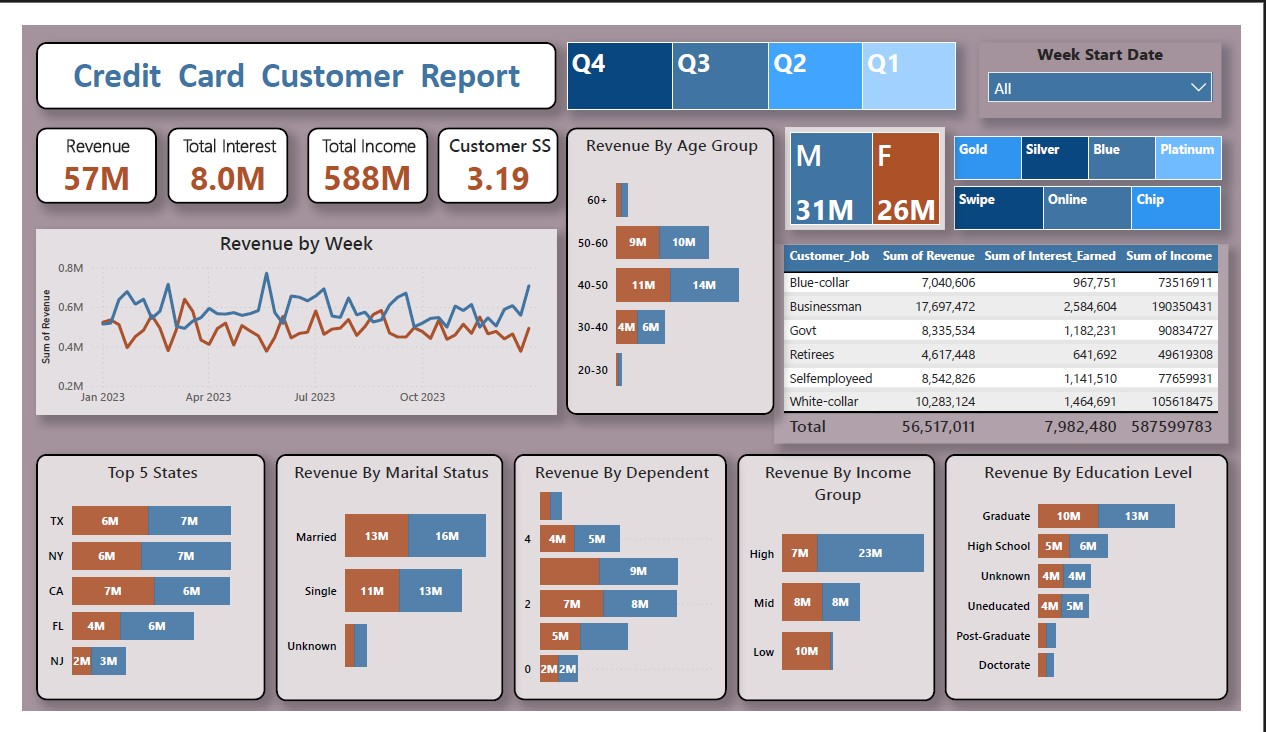

Layout of this report page (visuals, bound fields, positions):
{"tool":"powerbi","page":{"name":"Credit Card Customer Report","canvas":[1280,720],"ordinal":2},"visuals":[{"type":"textbox","box":[14.5,16.9,546.5,71.2],"z":0},{"type":"barChart","title":"Revenue By Income Group","fields":{"Category":["credit cust.IncomeGroup"],"Y":["Sum(credit_card.Revenue)"],"Series":["credit cust.Gender"]},"box":[751.4,450.3,207.2,259.9],"z":1000},{"type":"card","title":"Revenue","fields":{"Values":["Sum(credit_card.Revenue)"]},"box":[14.2,106.8,127,79.8],"z":2000},{"type":"card","title":"Total Interest","fields":{"Values":["Sum(credit_card.Interest_Earned)"]},"box":[152,106.8,127,79.8],"z":3000},{"type":"card","title":"Total Income","fields":{"Values":["Sum(credit cust.Income)"]},"box":[299,107,127,79.8],"z":4000},{"type":"card","title":"Customer SS","fields":{"Values":["Avg(credit cust.Cust_Satisfaction_Score)"]},"box":[436.2,106.8,127,79.8],"z":5000},{"type":"slicer","title":"Week Start Date","fields":{"Values":["credit_card.Week_Start_Date"]},"box":[1005,16.9,254.6,79.6],"z":6000},{"type":"treemap","fields":{"Group":["credit_card.Qtr"],"Values":["Avg(credit_card.ï»¿Client_Num)"]},"box":[571.9,16.9,407.8,71.2],"z":7000},{"type":"treemap","fields":{"Group":["credit_card.Card_Category"],"Values":["Avg(credit cust.ï»¿Client_Num)"]},"box":[979.2,115.8,280.5,45],"z":8000},{"type":"treemap","fields":{"Group":["credit_card.Use Chip"],"Values":["Avg(credit_card.ï»¿Client_Num)"]},"box":[979,168.6,280.5,45],"z":9000},{"type":"tableEx","fields":{"Values":["credit cust.Customer_Job","Sum(credit_card.Revenue)","Sum(credit_card.Interest_Earned)","Sum(credit cust.Income)"]},"box":[790,230.3,477.4,208.4],"z":10000},{"type":"lineChart","title":"Revenue by Week","fields":{"Y":["Sum(credit_card.Revenue)"],"Category":["credit_card.Week_Start_Date.Variation.Date Hierarchy.Year","credit_card.Week_Start_Date.Variation.Date Hierarchy.Month","credit_card.Week_Start_Date.Variation.Date Hierarchy.Day"],"Series":["credit cust.Gender"]},"box":[14.2,213.6,546.8,195.6],"z":11000},{"type":"treemap","fields":{"Group":["credit cust.Gender"],"Values":["Sum(credit_card.Revenue)"]},"box":[801.6,106.8,167.3,106.8],"z":12000},{"type":"barChart","title":"Revenue By Age Group","fields":{"Category":["credit cust.AgeGroup"],"Y":["Sum(credit_card.Revenue)"],"Series":["credit cust.Gender"]},"box":[571.3,106.8,218.7,302.4],"z":13000},{"type":"barChart","title":"Revenue By Dependent","fields":{"Category":["credit cust.Dependent_Count"],"Y":["Sum(credit_card.Revenue)"],"Series":["credit cust.Gender"]},"box":[516,450.3,223.9,258.6],"z":14000},{"type":"barChart","title":"Revenue By Education Level","fields":{"Category":["credit cust.Education_Level"],"Y":["Sum(credit_card.Revenue)"],"Series":["credit cust.Gender"]},"box":[968.9,450.3,298.5,258.6],"z":15000},{"type":"barChart","title":"Top 5 States","fields":{"Category":["credit cust.state_cd"],"Y":["Sum(credit_card.Revenue)"],"Series":["credit cust.Gender"]},"box":[14.2,450.3,240.6,258.6],"z":16000},{"type":"barChart","title":"Revenue By Marital Status","fields":{"Category":["credit cust.Marital_Status"],"Y":["Sum(credit_card.Revenue)"],"Series":["credit cust.Gender"]},"box":[266,450.3,239.3,259.9],"z":17000}]}

Visuals, with their boxes in screenshot pixels (x1, y1, x2, y2), scaled from the page's 1280x720 canvas onto the 1266x732 screenshot:
textbox: [left=14, top=17, right=555, bottom=90]
"Revenue By Income Group" barChart: [left=743, top=458, right=948, bottom=722]
"Revenue" card: [left=14, top=109, right=140, bottom=190]
"Total Interest" card: [left=150, top=109, right=276, bottom=190]
"Total Income" card: [left=296, top=109, right=421, bottom=190]
"Customer SS" card: [left=431, top=109, right=557, bottom=190]
"Week Start Date" slicer: [left=994, top=17, right=1246, bottom=98]
treemap - credit_card.Qtr x Avg(credit_card.ï»¿Client_Num): [left=566, top=17, right=969, bottom=90]
treemap - credit_card.Card_Category x Avg(credit cust.ï»¿Client_Num): [left=968, top=118, right=1246, bottom=163]
treemap - credit_card.Use Chip x Avg(credit_card.ï»¿Client_Num): [left=968, top=171, right=1246, bottom=217]
tableEx - credit cust.Customer_Job x Sum(credit_card.Revenue): [left=781, top=234, right=1254, bottom=446]
"Revenue by Week" lineChart: [left=14, top=217, right=555, bottom=416]
treemap - credit cust.Gender x Sum(credit_card.Revenue): [left=793, top=109, right=958, bottom=217]
"Revenue By Age Group" barChart: [left=565, top=109, right=781, bottom=416]
"Revenue By Dependent" barChart: [left=510, top=458, right=732, bottom=721]
"Revenue By Education Level" barChart: [left=958, top=458, right=1254, bottom=721]
"Top 5 States" barChart: [left=14, top=458, right=252, bottom=721]
"Revenue By Marital Status" barChart: [left=263, top=458, right=500, bottom=722]
